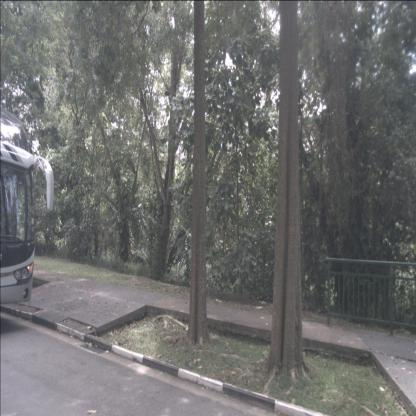vehicle-bus-rigid: (0, 107, 36, 305)
